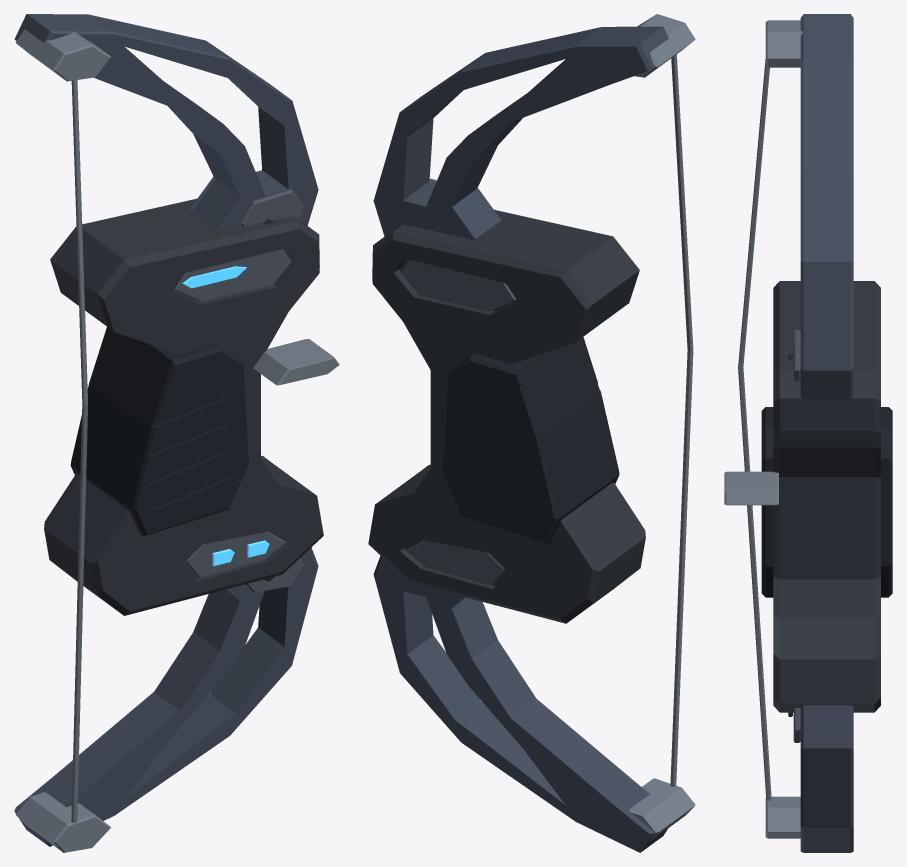
Rendered from Recon.fbx.
The picture shows the model from 3 angles, left to right: view 1: azimuth 30°, elevation 25°; view 2: azimuth 150°, elevation 25°; view 3: azimuth 270°, elevation 25°; orthographic projection.
Visible parts, largest first — view 1: Receiver, Grip, LowerLimb, UpperLimb, LowerStringTip, UpperStringTip, UpperInsert_Right, StringLowerSegment, BoltRest, StringUpperSegment, LowerInsert_Right, UpperLimbPlate (+2 smaller); view 2: Receiver, LowerLimb, Grip, UpperLimb, UpperInsert_Left, StringLowerSegment, LowerInsert_Left, LowerStringTip, StringUpperSegment, UpperStringTip; view 3: Receiver, UpperLimb, LowerLimb, Grip, StringLowerSegment, BoltRest, StringUpperSegment, UpperStringTip, LowerStringTip, UpperLimbPlate.
Boxes of the visible parts, box(x1,y1,x2,y2) form: Receiver: box(44, 198, 323, 615); Grip: box(70, 327, 248, 536); LowerLimb: box(14, 547, 318, 846); UpperLimb: box(14, 14, 318, 229); LowerStringTip: box(15, 792, 110, 852); UpperStringTip: box(16, 29, 110, 81); UpperInsert_Right: box(174, 249, 291, 301); StringLowerSegment: box(71, 403, 87, 823); BoltRest: box(253, 339, 339, 385); StringUpperSegment: box(71, 80, 87, 404); LowerInsert_Right: box(185, 532, 285, 577); UpperLimbPlate: box(239, 189, 303, 226); Receiver: box(368, 209, 645, 623); LowerLimb: box(373, 556, 668, 852); Grip: box(442, 337, 619, 544); UpperLimb: box(373, 26, 668, 240); UpperInsert_Left: box(400, 260, 516, 311); StringLowerSegment: box(670, 350, 693, 786); LowerInsert_Left: box(406, 540, 505, 585); LowerStringTip: box(629, 778, 695, 840); StringUpperSegment: box(671, 54, 693, 351); UpperStringTip: box(634, 14, 695, 77); Receiver: box(773, 281, 880, 712); UpperLimb: box(800, 14, 853, 399); LowerLimb: box(800, 705, 853, 852); Grip: box(761, 407, 892, 597); StringLowerSegment: box(738, 367, 771, 800); BoltRest: box(724, 471, 778, 505); StringUpperSegment: box(738, 59, 769, 368); UpperStringTip: box(765, 20, 802, 67); LowerStringTip: box(765, 796, 800, 838); UpperLimbPlate: box(793, 329, 800, 381).
Size of the model in its own units: 0.422 by 1.16 by 0.216.
